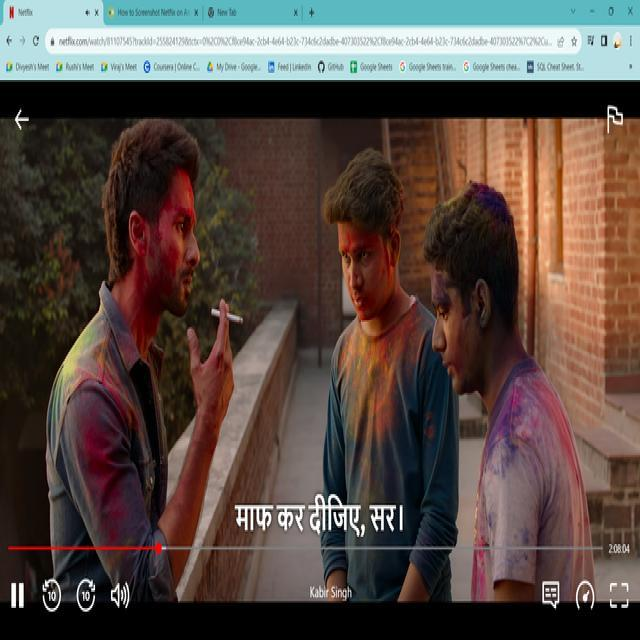smoking: (205, 302, 244, 329)
